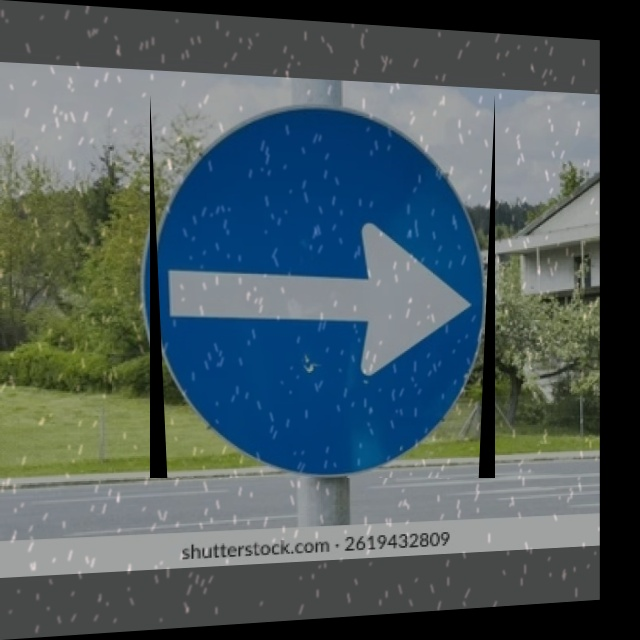Compulsory_Turn_Right: (150, 94, 495, 478)
